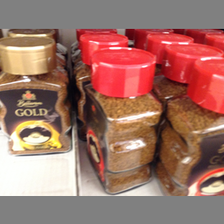coffee: (83, 46, 161, 193), (158, 57, 224, 196), (1, 36, 72, 157)
